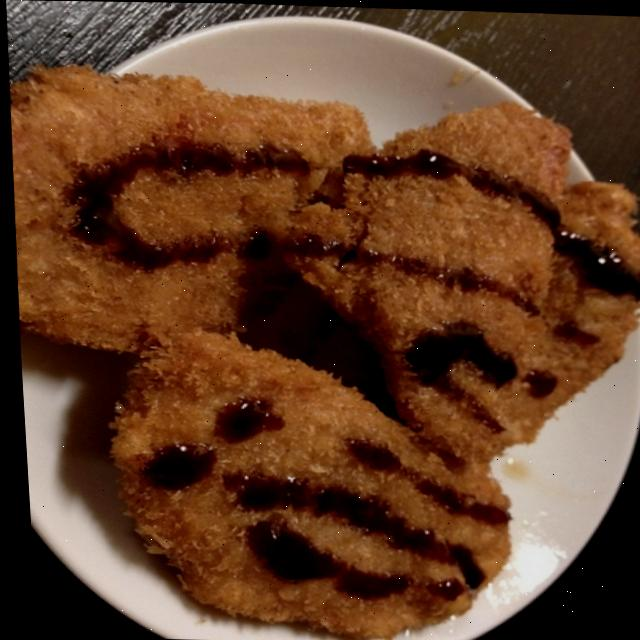炸货点心: (0, 6, 640, 640)
